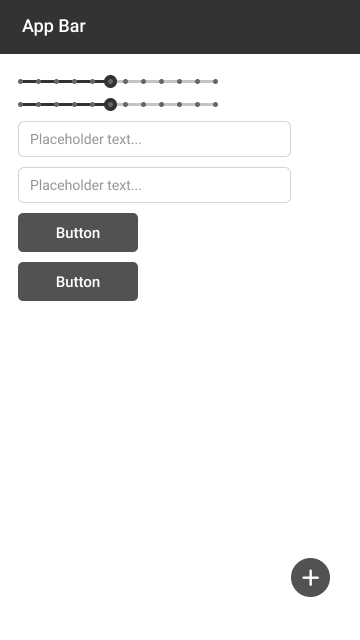button: (15, 211, 142, 254), (16, 260, 140, 304)
editText: (15, 118, 293, 160), (16, 165, 293, 205)
floatingButton: (289, 556, 333, 598)
slider: (14, 99, 220, 112), (14, 75, 219, 88)
toolbar: (1, 1, 359, 54)
